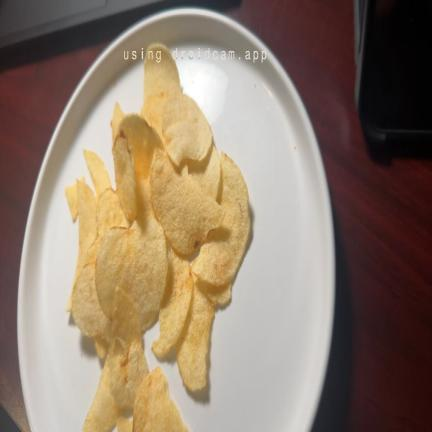chips: (66, 44, 250, 431), (96, 218, 168, 330), (151, 150, 224, 254), (193, 153, 250, 286), (107, 287, 148, 409), (152, 251, 193, 356), (177, 287, 214, 391), (142, 44, 181, 137), (162, 94, 212, 166), (133, 368, 187, 431), (72, 264, 111, 338), (118, 114, 162, 178), (83, 362, 121, 431), (73, 181, 96, 286), (144, 44, 181, 101), (113, 133, 136, 220), (188, 145, 221, 200), (97, 189, 128, 238), (84, 150, 111, 197), (194, 275, 231, 306), (137, 175, 154, 226), (112, 103, 124, 143), (86, 236, 101, 265), (66, 183, 77, 221), (93, 336, 109, 358), (117, 417, 132, 431)
plate: (18, 9, 334, 431)
